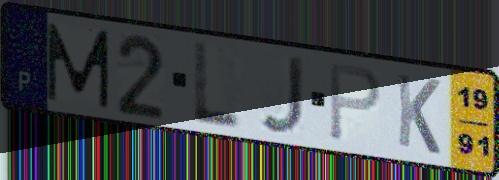2: (115, 30, 167, 124)
J: (257, 55, 307, 138)
K: (395, 70, 443, 158)
L: (190, 39, 245, 132)
M: (43, 20, 112, 111)
P: (327, 61, 384, 144)
